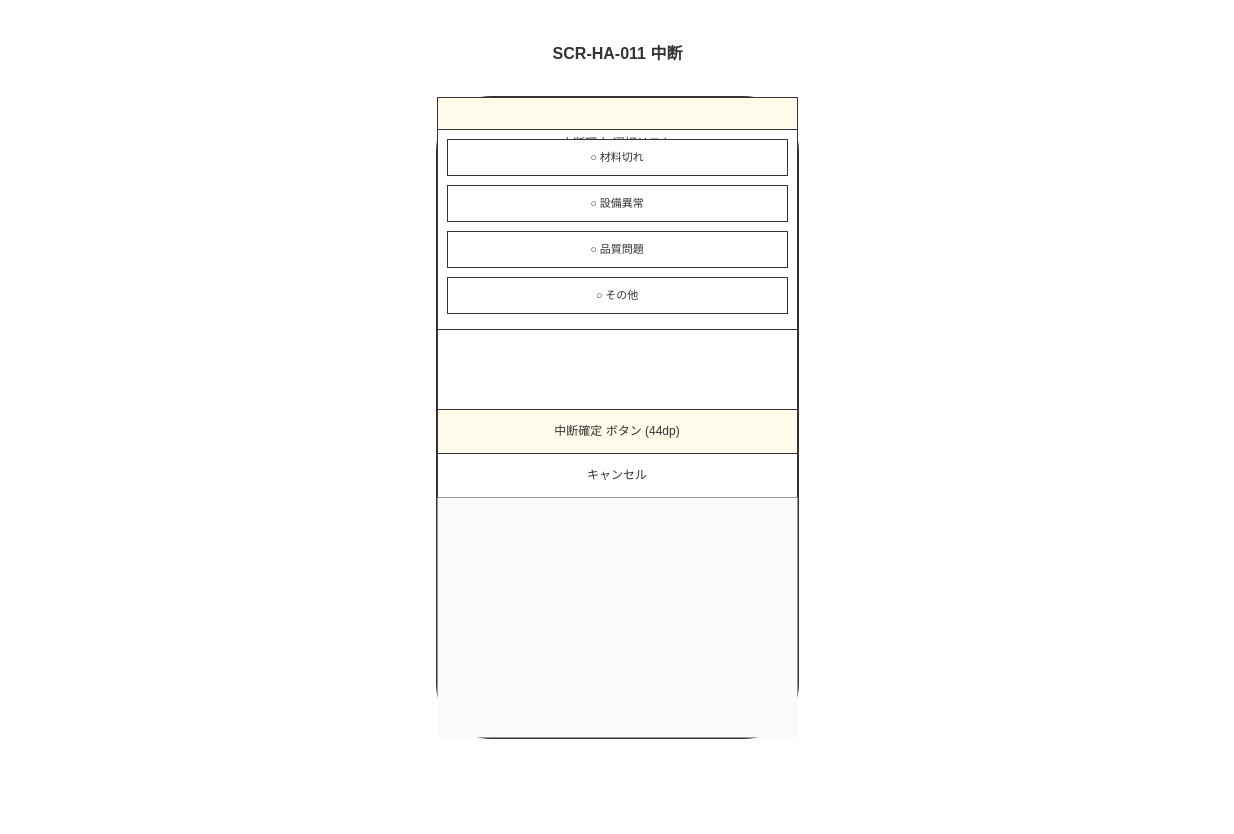
The diagram is 1234 pixels wide and 834 high, and some of its shapes have lost their labels. Here are the shapes that lost their labels. From the top down, the centre of each, then its label:
At point 617,113: "OfflineBanner".
At point 617,369: "コメント 入力".
